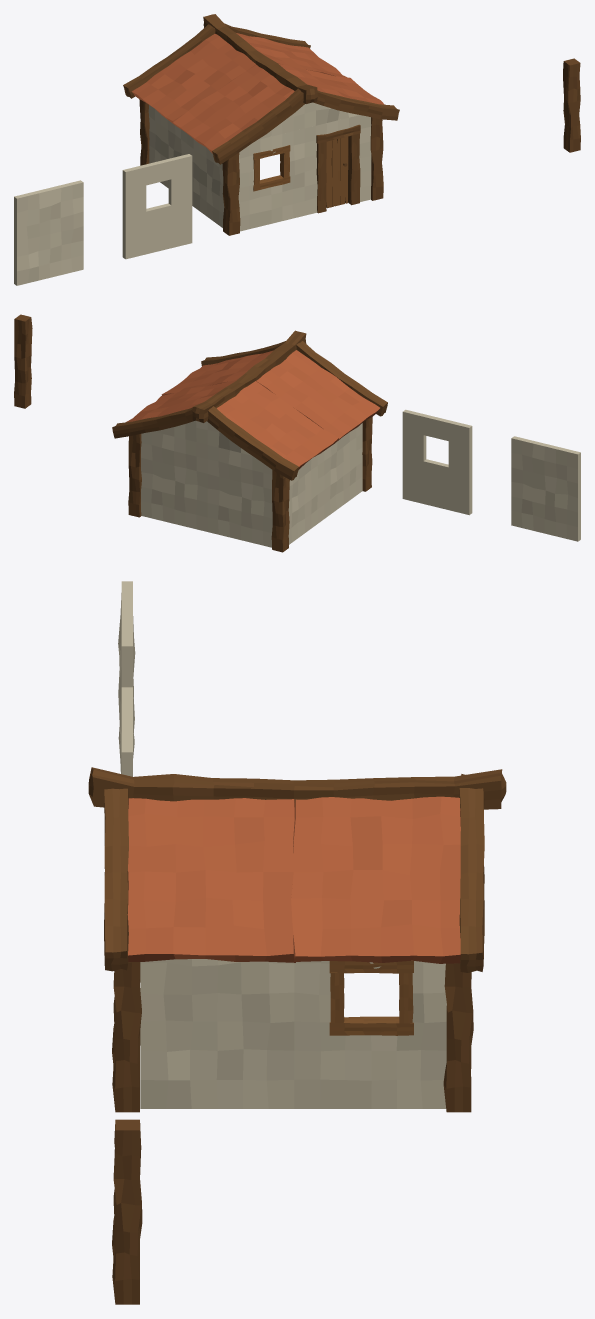
File: house_pieces.glb
3 views of the same model, one above another, from view 1: azimuth 30°, elevation 25°; view 2: azimuth 150°, elevation 25°; view 3: azimuth 270°, elevation 25° (orthographic). The views are drawn at different scales.
Visible parts, largest first — view 1: Wall, Wall.001, Cube.022, Cube.016, Wall.002, Doorway, Wall.004, Cube.011, Cube.015, Cube.021, Wall.006, Pillar (+15 smaller); view 2: Wall, Wall.001, Wall.008, Wall.007, Cube.016, Cube.022, Wall.004, Wall.006, Cube.011, Cube.023, Pillar, Cube.010 (+9 smaller); view 3: Cube.021, Cube.010, Wall.003, Wall.005, Cube.011, Pillar, Cube.024, Cube.013, Pillar.001, Pillar.003, Wall, Cube.017 (+2 smaller).
Part boxes in pixels (left/top/right/bottom): Wall: left=14, top=180, right=83, bottom=285; Wall.001: left=122, top=154, right=192, bottom=259; Cube.022: left=131, top=33, right=256, bottom=125; Cube.016: left=173, top=65, right=294, bottom=153; Wall.002: left=238, top=128, right=304, bottom=231; Doorway: left=304, top=115, right=371, bottom=215; Wall.004: left=187, top=134, right=224, bottom=227; Cube.011: left=203, top=14, right=317, bottom=103; Cube.015: left=212, top=88, right=304, bottom=164; Cube.021: left=236, top=33, right=346, bottom=77; Wall.006: left=148, top=105, right=187, bottom=188; Pillar: left=563, top=58, right=580, bottom=152; Wall: left=511, top=436, right=580, bottom=541; Wall.001: left=402, top=409, right=472, bottom=515; Wall.008: left=141, top=431, right=207, bottom=531; Wall.007: left=207, top=445, right=272, bottom=547; Cube.016: left=256, top=350, right=380, bottom=442; Cube.022: left=216, top=381, right=338, bottom=469; Wall.004: left=324, top=423, right=362, bottom=518; Wall.006: left=288, top=451, right=324, bottom=544; Cube.011: left=192, top=330, right=306, bottom=422; Cube.023: left=207, top=406, right=298, bottom=480; Pillar: left=14, top=314, right=32, bottom=408; Cube.010: left=161, top=350, right=273, bottom=395; Cube.021: left=291, top=796, right=460, bottom=963; Cube.010: left=127, top=798, right=295, bottom=962; Wall.003: left=140, top=959, right=294, bottom=1108; Wall.005: left=294, top=961, right=446, bottom=1108; Cube.011: left=88, top=767, right=506, bottom=809; Pillar: left=112, top=1119, right=142, bottom=1304; Cube.024: left=459, top=784, right=484, bottom=972; Cube.013: left=104, top=788, right=128, bottom=971; Pillar.001: left=112, top=962, right=141, bottom=1112; Pillar.003: left=443, top=963, right=473, bottom=1112; Wall: left=118, top=581, right=135, bottom=773; Cube.017: left=329, top=1016, right=413, bottom=1035.
Size of the model in its own units: 16.89 by 3.8 by 5.43.
